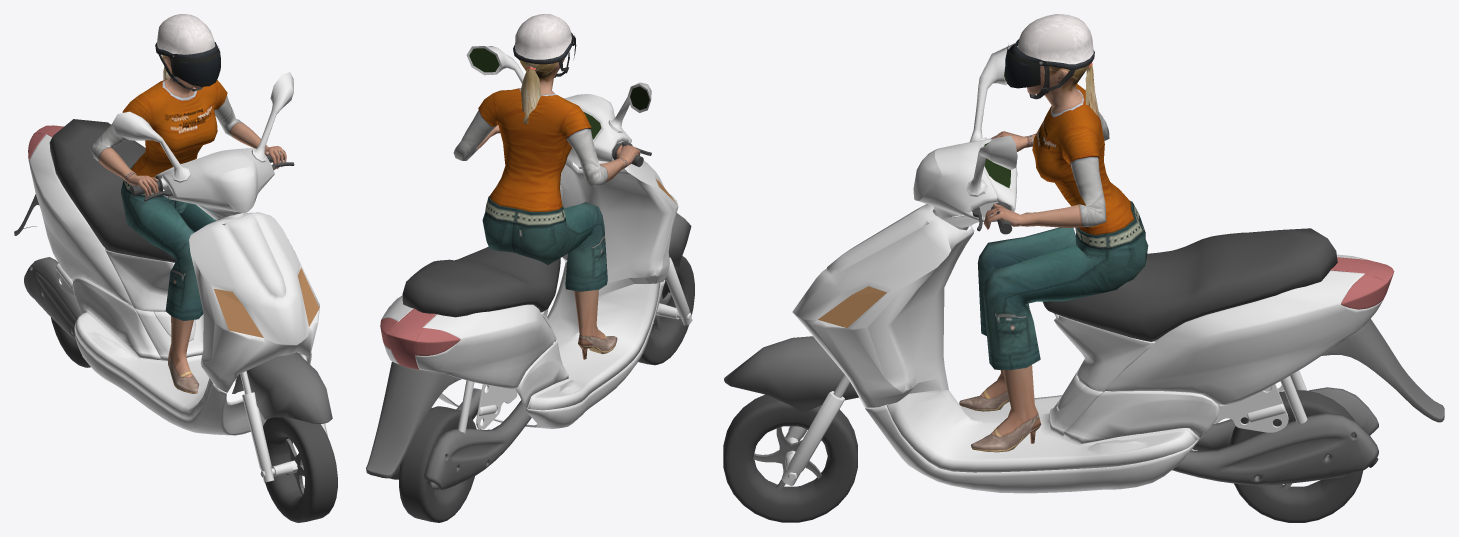
Rendered from DDC.glb.
3 views of the same model, side by side, from view 1: azimuth 30°, elevation 25°; view 2: azimuth 150°, elevation 25°; view 3: azimuth 270°, elevation 25° (orthographic). The views are drawn at different scales.
Visible parts, largest first — view 1: VehicleBody, DDC01_网格.001, luntai_网格.004, dangniban_网格, DDC03_网格.003, qiandeng_网格.005, weideng_网格.007; view 2: VehicleBody, DDC01_网格.001, luntai_网格.004, dangniban_网格, weideng_网格.007, DDC03_网格.003, DDC02_网格.002; view 3: VehicleBody, luntai_网格.004, DDC01_网格.001, dangniban_网格, DDC03_网格.003, weideng_网格.007, qiandeng_网格.005.
Part boxes in pixels (x1,y1,x2,y2): VehicleBody: (29,72,328,482); DDC01_网格.001: (90,55,286,393); luntai_网格.004: (49,119,337,522); dangniban_网格: (14,194,332,495); DDC03_网格.003: (155,14,220,91); qiandeng_网格.005: (214,268,319,337); weideng_网格.007: (28,125,63,160); VehicleBody: (381,46,692,432); DDC01_网格.001: (453,59,640,359); luntai_网格.004: (399,141,694,522); dangniban_网格: (366,213,691,490); weideng_网格.007: (380,308,460,369); DDC03_网格.003: (513,14,576,77); DDC02_网格.002: (469,48,649,139); VehicleBody: (781,43,1382,493); luntai_网格.004: (723,202,1378,522); DDC01_网格.001: (959,63,1148,452); dangniban_网格: (724,318,1444,490); DDC03_网格.003: (1005,14,1094,99); weideng_网格.007: (1330,257,1394,315); qiandeng_网格.005: (818,286,886,327).
Bounding box in the file's own units: 0.621 × 1.37 × 1.79.
11 materials, 5 textured.
